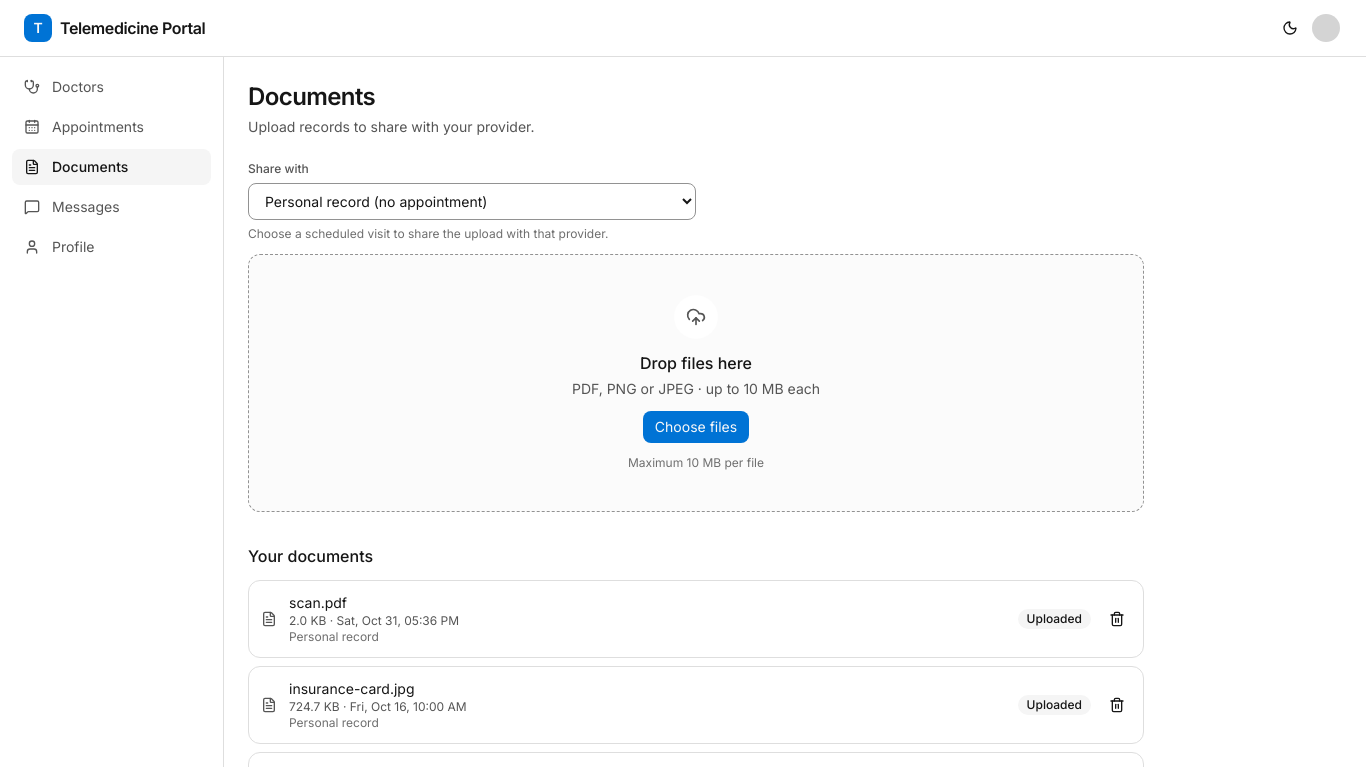
Test: documents › deletes a document through the confirmation dialog
expect the heading "Documents" is shown: met, box [248,82,375,111]
Step 1. Click the button named "Delete" → coordinates (1117, 619), box [1103,605,1131,633]
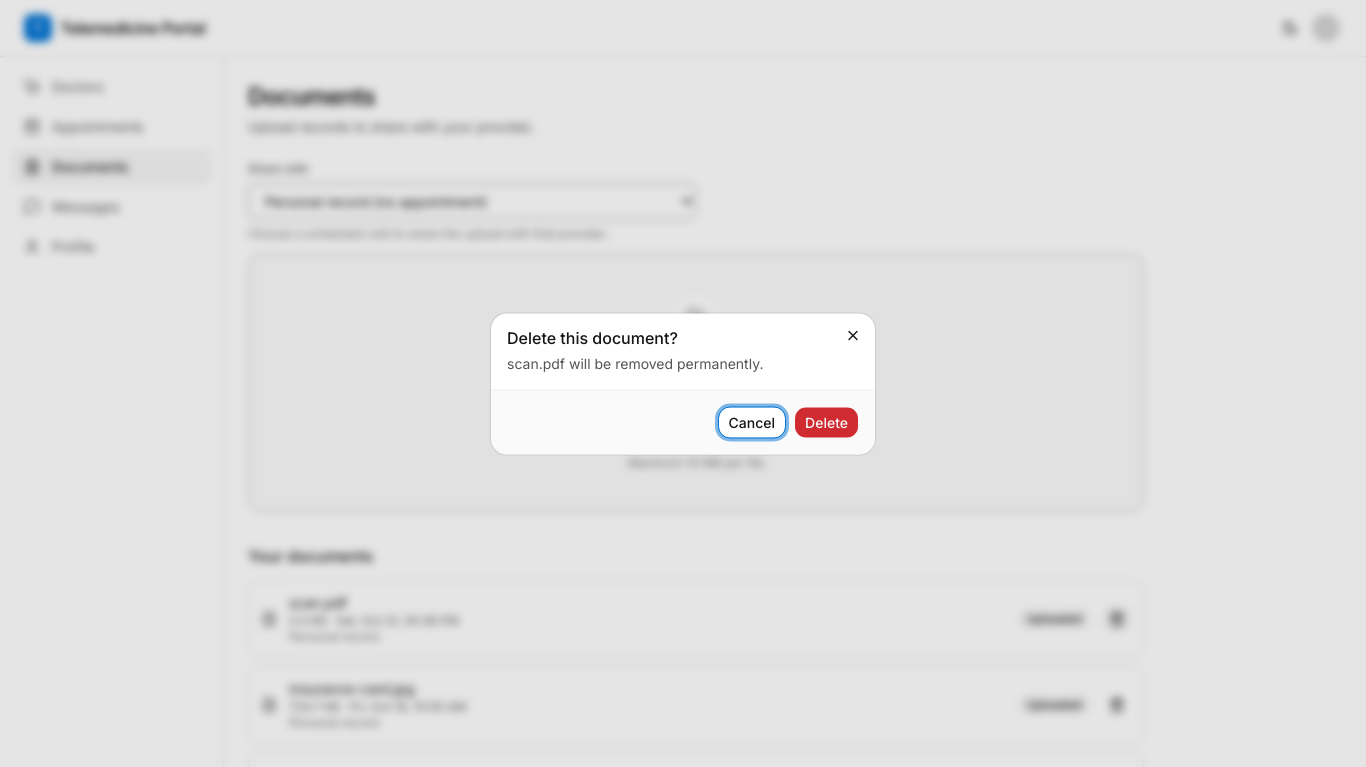
Step 2. Click the button "Delete" → coordinates (827, 422), box [794,406,859,438]
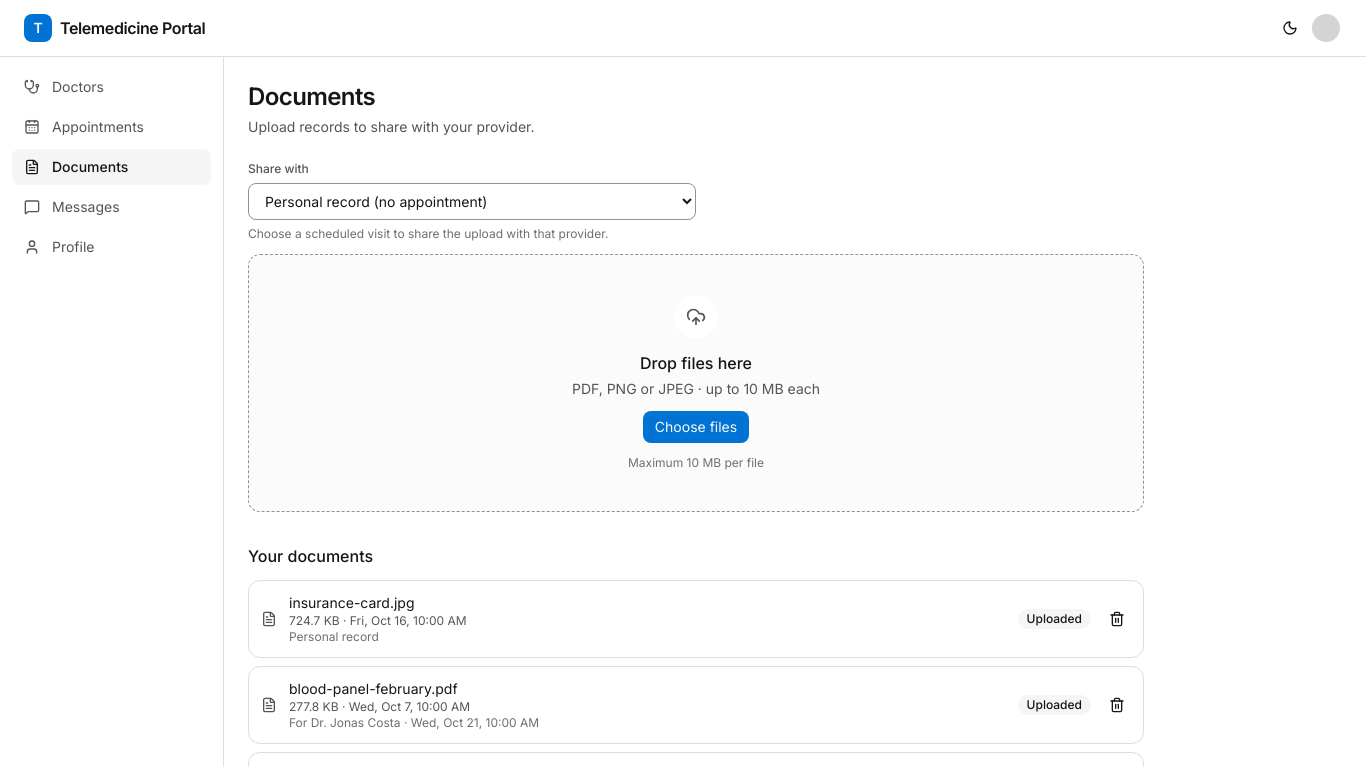
expect the text "scan.pdf" is gone: met
